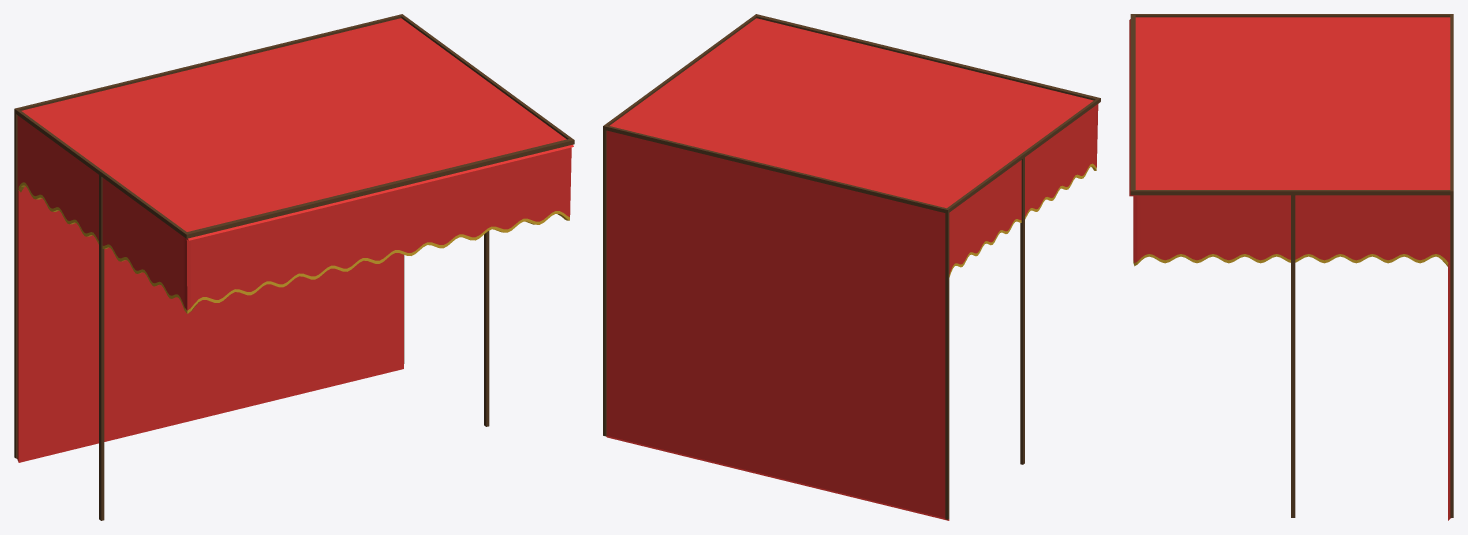
File: paraeta2 1.fbx
3 views of the same model, side by side, from view 1: azimuth 30°, elevation 25°; view 2: azimuth 150°, elevation 25°; view 3: azimuth 270°, elevation 25° (orthographic). The views are drawn at different scales.
Visible parts, largest first — view 1: paraeta2, Cube.006; view 2: paraeta2, Cube.006; view 3: paraeta2, Cube.006.
Part boxes in pixels (x1,y1,x2,y2): paraeta2: (17, 18, 573, 462); Cube.006: (14, 14, 574, 520); paraeta2: (606, 18, 1098, 520); Cube.006: (603, 14, 1100, 519); paraeta2: (1129, 17, 1450, 520); Cube.006: (1130, 14, 1453, 517).
Size of the model in its own units: 419 by 364 by 324.
